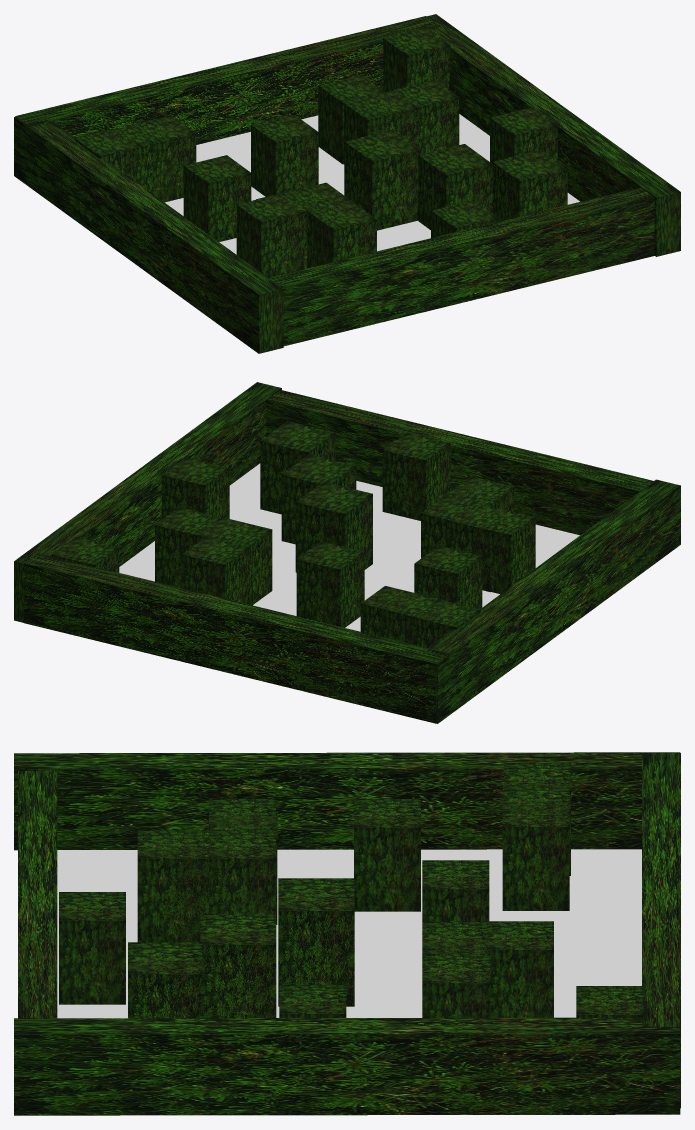
The model's file is WorldLevel2.FBX.
The picture shows the model from 3 angles, top to bottom: view 1: azimuth 30°, elevation 25°; view 2: azimuth 150°, elevation 25°; view 3: azimuth 270°, elevation 25°; orthographic projection. The views are drawn at different scales.
Visible parts, largest first — view 1: Hedge2, Hedge3, Hedge1, Hedge4, TrapHedge4, TrapHedge1, TrapHedge14, Plane002, TrapHedge8, TrapHedge6, TrapHedge7, TrapHedge20 (+13 smaller); view 2: Hedge1, Hedge3, Hedge2, Hedge4, Plane002, TrapHedge14, TrapHedge5, TrapHedge4, TrapHedge21, TrapHedge7, TrapHedge15, TrapHedge8 (+13 smaller); view 3: Hedge4, Hedge3, Plane002, Hedge1, Hedge2, TrapHedge4, TrapHedge6, TrapHedge5, TrapHedge8, TrapHedge3, TrapHedge11, TrapHedge21 (+13 smaller).
Boxes of the visible parts, <box> form: Hedge2: <box>269,187,654,346</box>; Hedge3: <box>14,117,283,353</box>; Hedge1: <box>15,16,439,144</box>; Hedge4: <box>427,14,680,256</box>; TrapHedge4: <box>344,129,421,230</box>; TrapHedge1: <box>236,194,304,277</box>; TrapHedge14: <box>251,114,318,196</box>; Plane002: <box>165,114,579,254</box>; TrapHedge8: <box>183,155,251,241</box>; TrapHedge6: <box>418,144,492,229</box>; TrapHedge7: <box>492,150,567,221</box>; TrapHedge20: <box>383,27,450,91</box>; Hedge1: <box>23,553,449,723</box>; Hedge3: <box>428,479,680,723</box>; Hedge2: <box>266,390,653,535</box>; Hedge4: <box>14,382,281,622</box>; Plane002: <box>119,463,579,631</box>; TrapHedge14: <box>296,541,364,627</box>; TrapHedge5: <box>382,432,450,520</box>; TrapHedge4: <box>295,482,372,572</box>; TrapHedge21: <box>181,537,249,604</box>; TrapHedge7: <box>260,421,335,514</box>; TrapHedge15: <box>161,457,229,519</box>; TrapHedge8: <box>414,545,482,609</box>; Hedge4: <box>14,1017,680,1115</box>; Hedge3: <box>14,752,680,850</box>; Plane002: <box>57,849,641,1018</box>; Hedge1: <box>642,753,680,1108</box>; Hedge2: <box>18,770,57,1018</box>; TrapHedge4: <box>278,878,354,1006</box>; TrapHedge6: <box>200,913,276,1018</box>; TrapHedge5: <box>59,892,125,1004</box>; TrapHedge8: <box>354,799,420,911</box>; TrapHedge3: <box>137,830,204,942</box>; TrapHedge11: <box>502,798,569,910</box>; TrapHedge21: <box>487,921,553,1017</box>.
Size of the model in its own units: 137 by 21.64 by 137.
